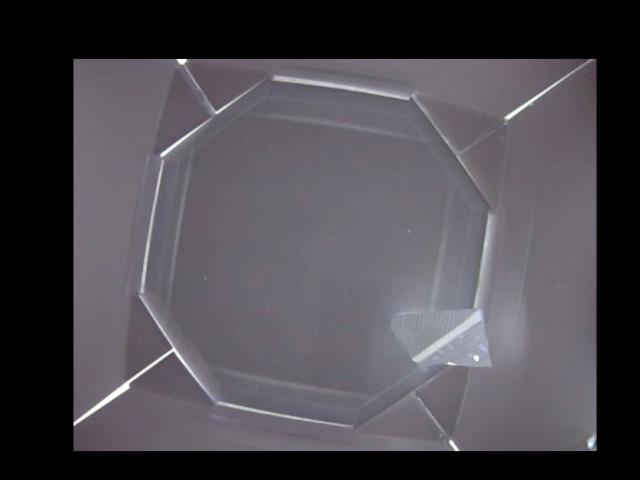China: (389, 301, 493, 370)
